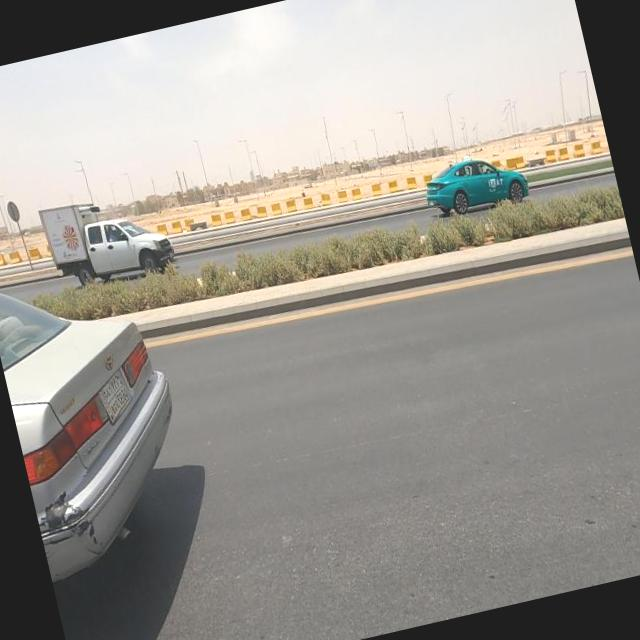debris: (204, 224, 268, 314), (398, 212, 444, 265), (182, 254, 222, 308)
